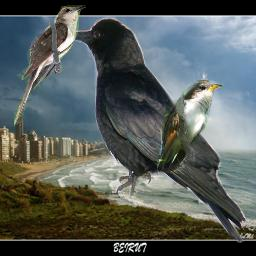Crow: (63, 17, 246, 243)
Cuckoo: (14, 5, 86, 126), (157, 80, 223, 171)
